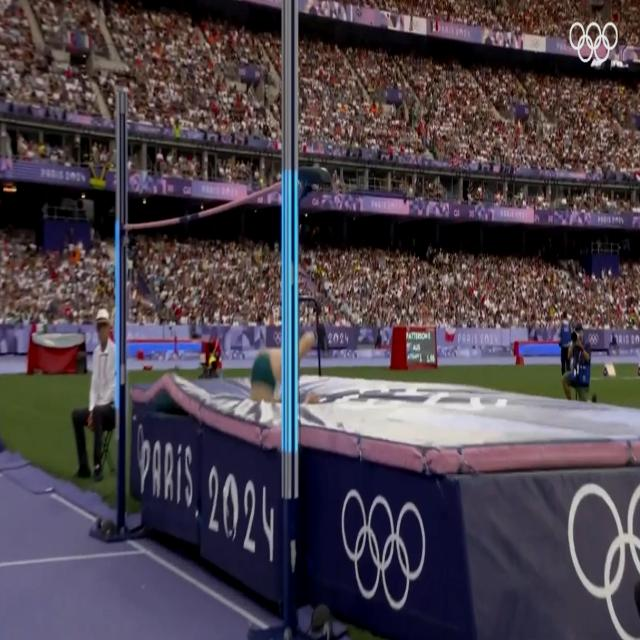land: (240, 314, 318, 402)
